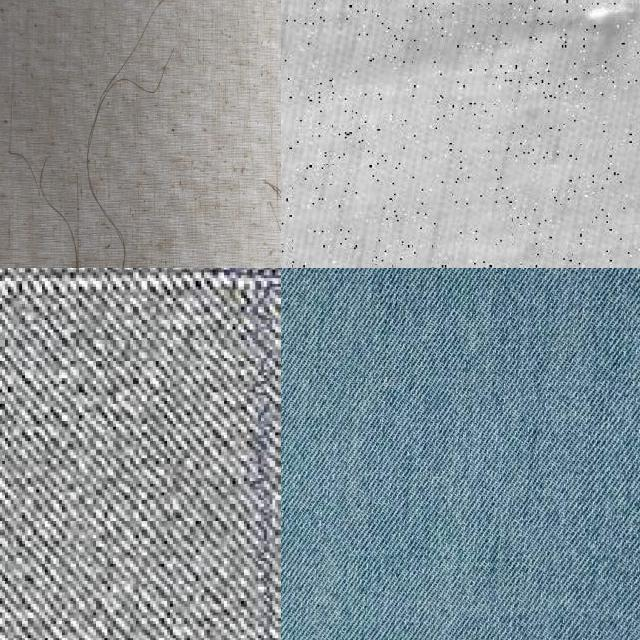other: (526, 0, 640, 95)
stains: (15, 0, 281, 268), (0, 268, 281, 364)
